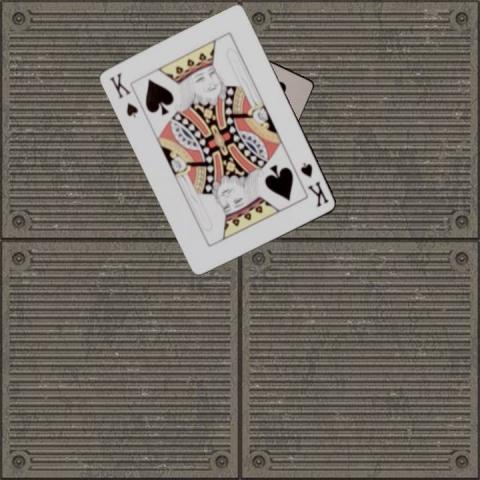Ks: (297, 159, 331, 209), (107, 70, 140, 119)
